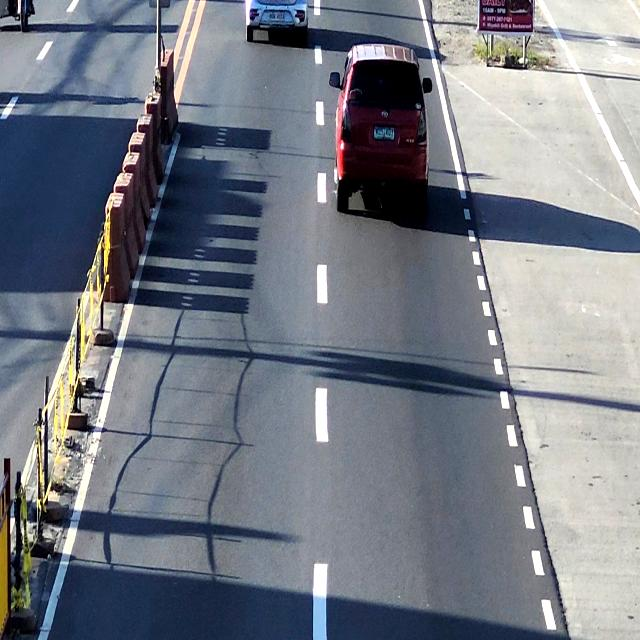Car: (336, 44, 430, 215), (245, 0, 313, 43)
License-Plate: (372, 123, 398, 144)
